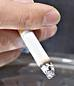smoke: (15, 21, 56, 80)
